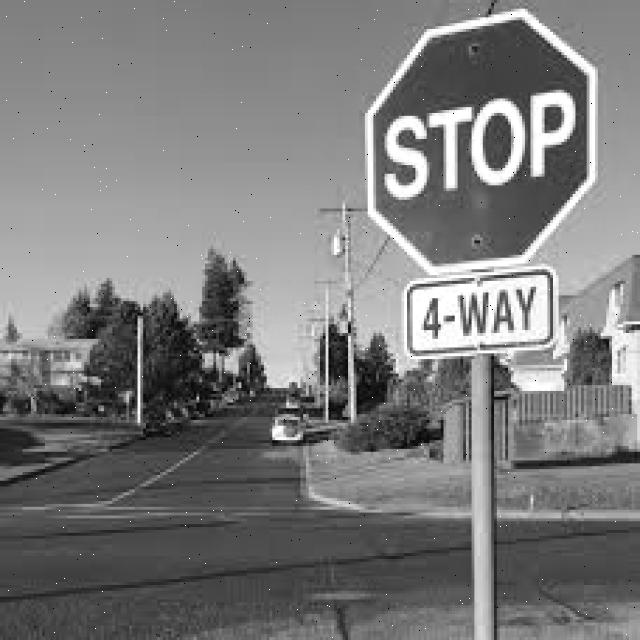stop sign: (374, 22, 590, 350)
